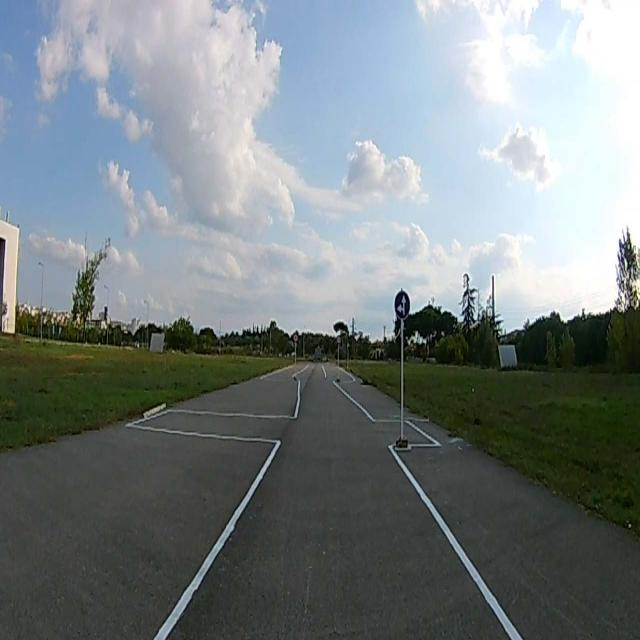ilerisol: (395, 290, 410, 319)
